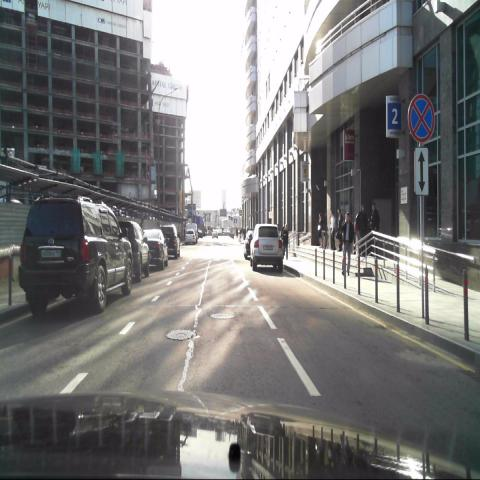8_2_4: (414, 145, 430, 197)
